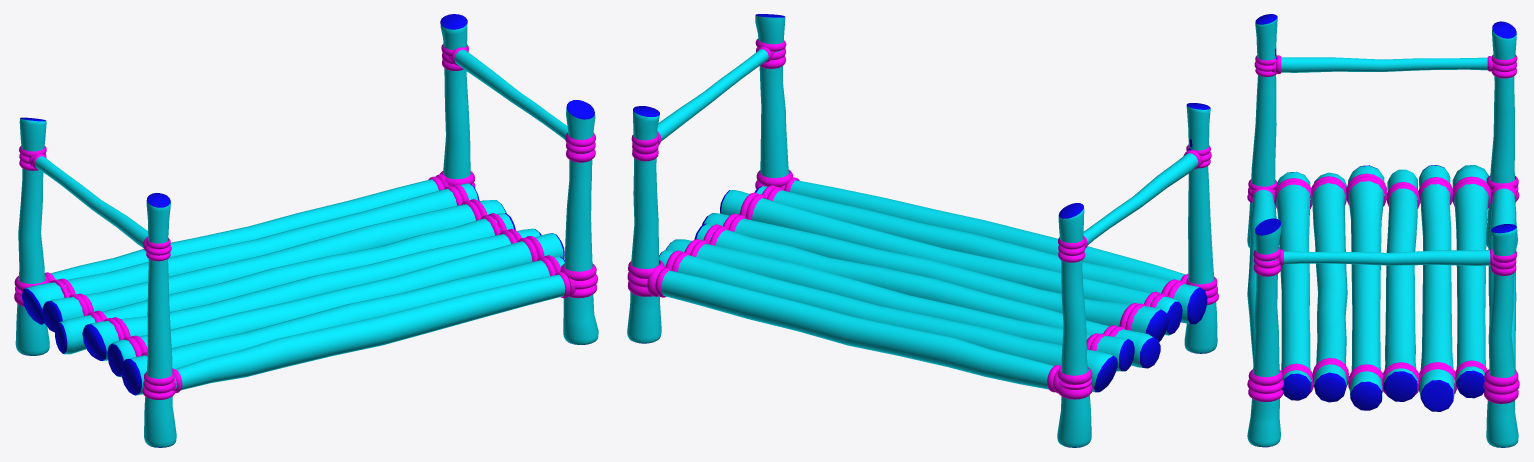
Rendered from SM_Pont_01.FBX.
3 views of the same model, side by side, from view 1: azimuth 30°, elevation 25°; view 2: azimuth 150°, elevation 25°; view 3: azimuth 270°, elevation 25° (orthographic). The views are drawn at different scales.
Visible parts, largest first — view 1: Pont_2; view 2: Pont_2; view 3: Pont_2.
Boxes of the visible parts, left/top/right/bottom form: Pont_2: left=14, top=14, right=598, bottom=447; Pont_2: left=627, top=14, right=1218, bottom=447; Pont_2: left=1247, top=14, right=1519, bottom=447.
Size of the model in its own units: 594 by 295 by 317.
